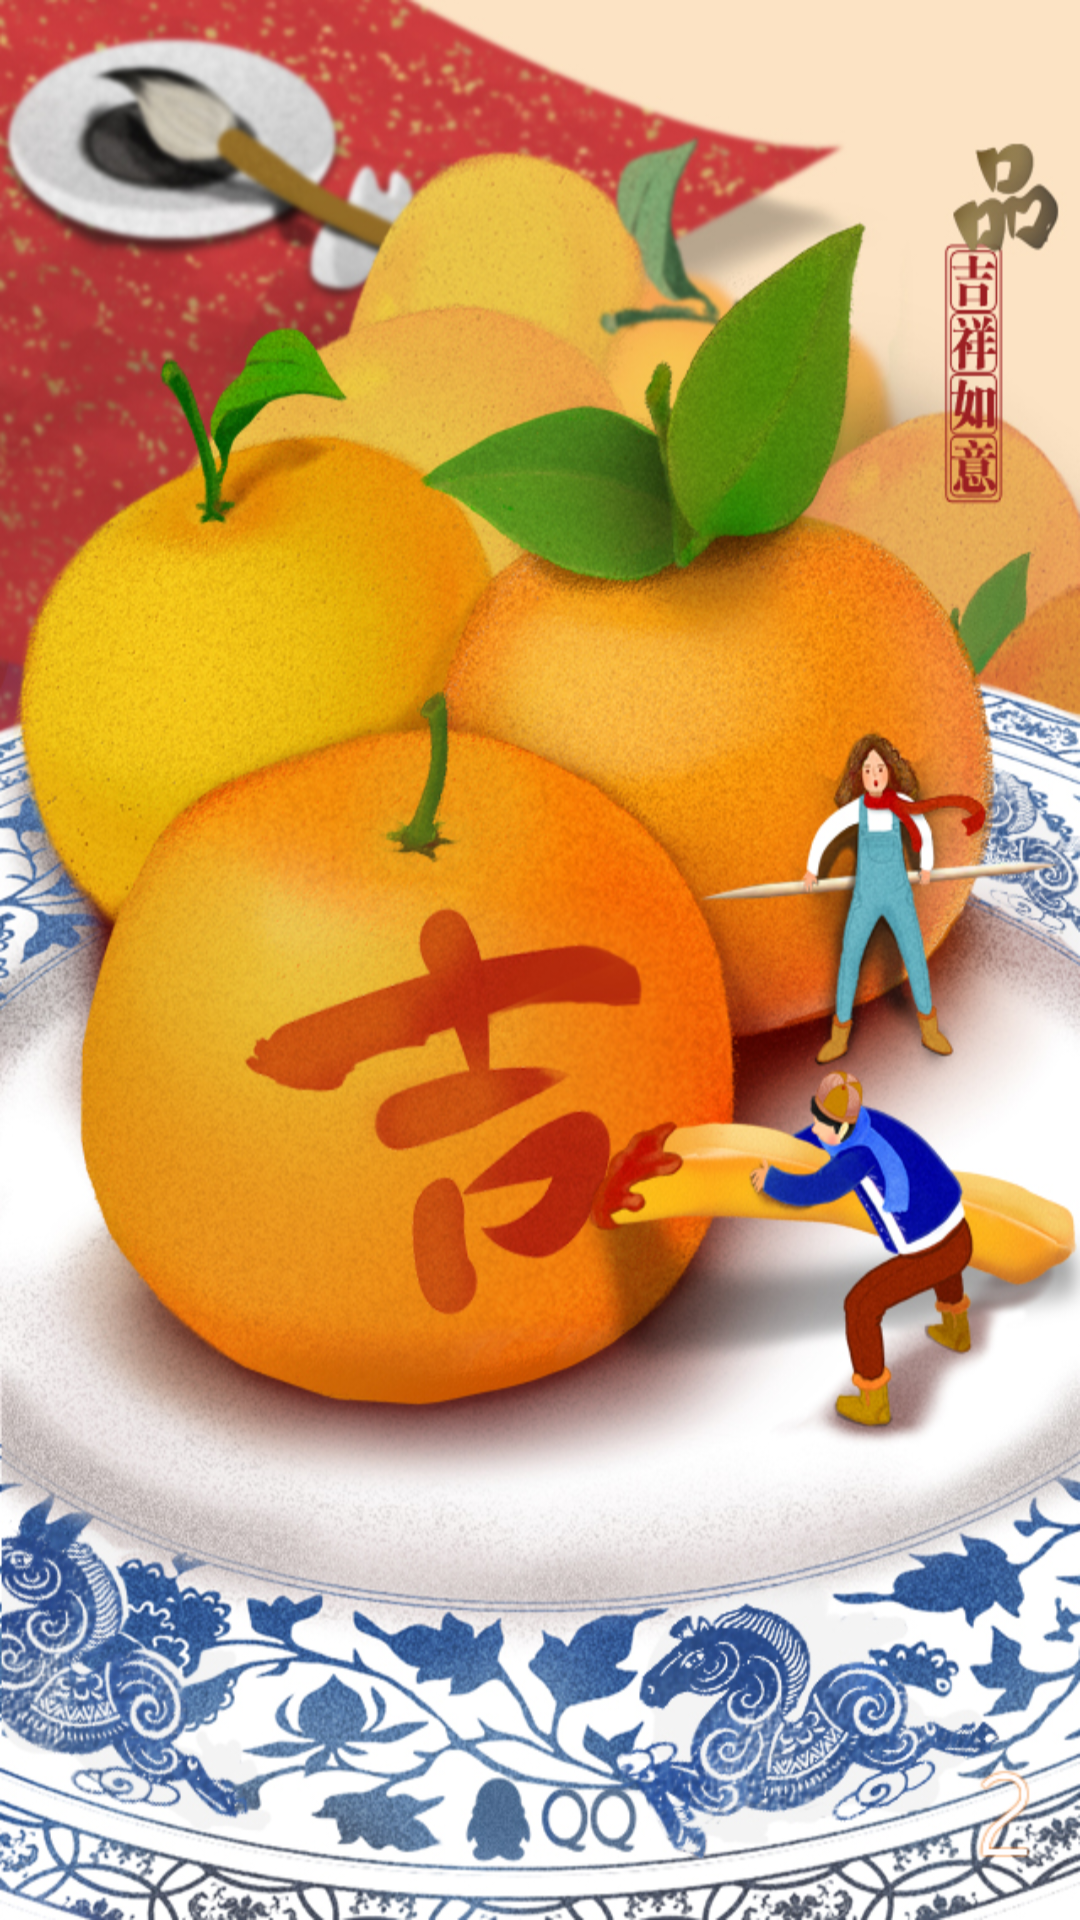

Icons on this 1080 x 1920 Android screen, each with the point to tap as [x,y]:
page score pic: [1001,1815]
